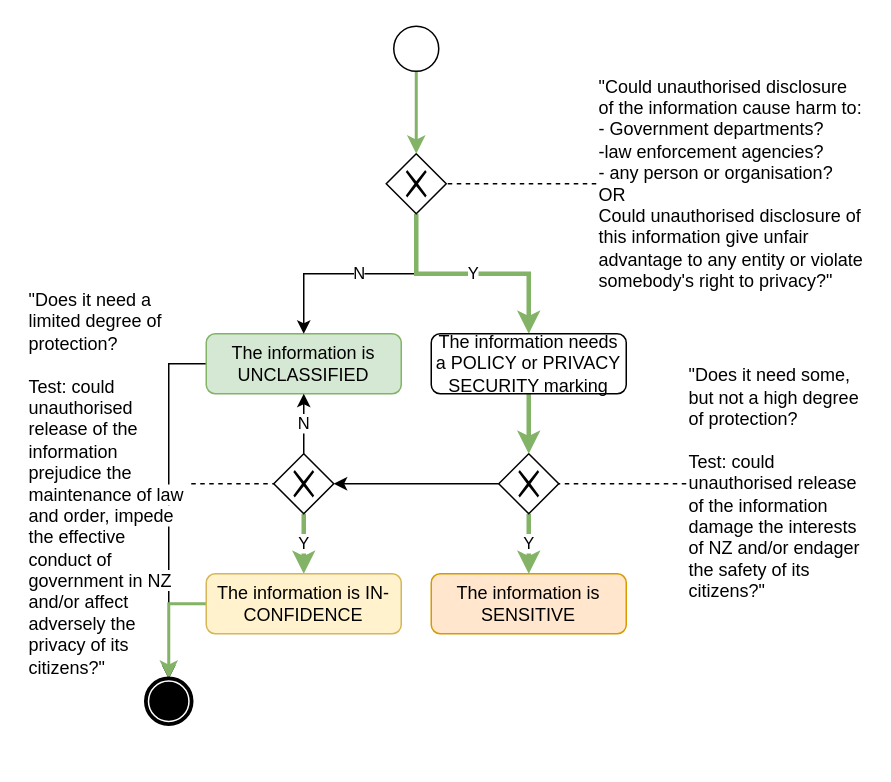
The diagram is 891 pixels wide and 782 high, and some of its shapes have lost their labels. The box of each missing label's shape, as (x1, y1, x2, y2) in pixels:
End: (145, 677, 191, 724)
Start: (392, 25, 439, 71)
